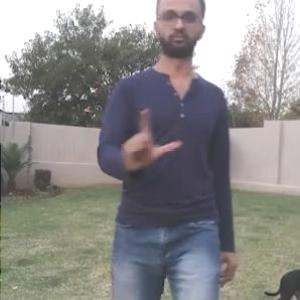land_hand: (113, 105, 185, 175)
